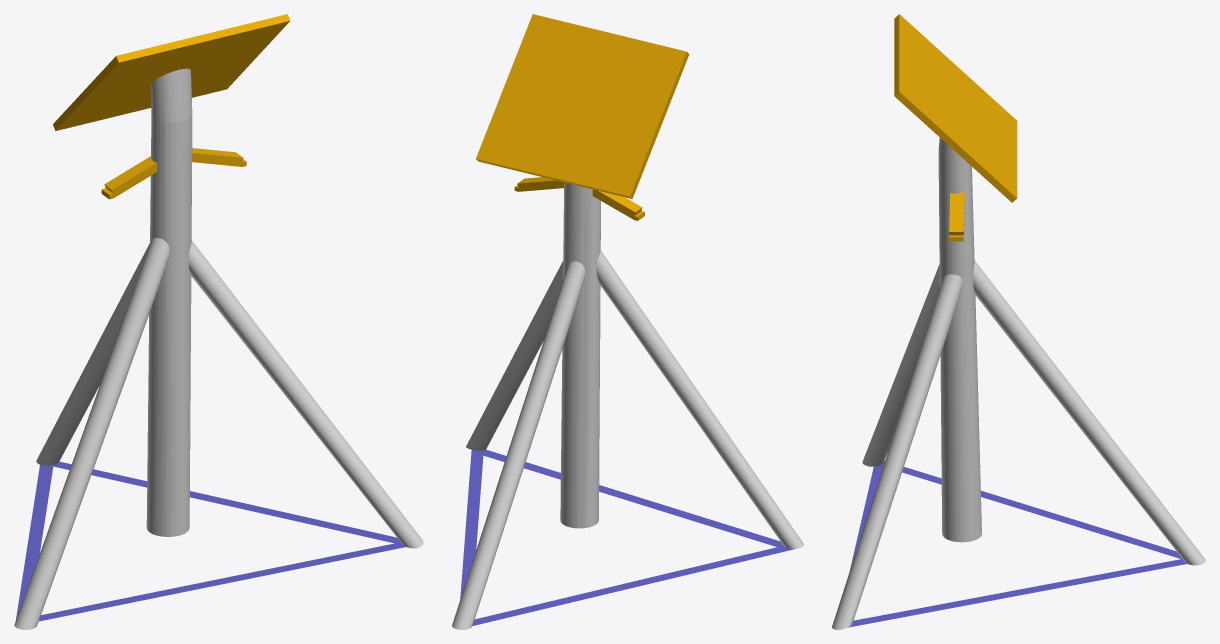
Rendered from boatStand.dae.
The picture shows the model from 3 angles, left to right: view 1: azimuth 30°, elevation 25°; view 2: azimuth 150°, elevation 25°; view 3: azimuth 270°, elevation 25°; orthographic projection. The views are drawn at different scales.
Visible parts, largest first — view 1: Mesh2_Group1_Model, Mesh5_Group1_Model, Mesh3_Group1_Model, Mesh6_Group1_Model, Mesh4_Group1_Model, Mesh1_Group2_Group1_Model; view 2: Mesh2_Group1_Model, Mesh4_Group1_Model, Mesh5_Group1_Model, Mesh6_Group1_Model, Mesh3_Group1_Model, Mesh1_Group2_Group1_Model; view 3: Mesh2_Group1_Model, Mesh3_Group1_Model, Mesh4_Group1_Model, Mesh6_Group1_Model, Mesh5_Group1_Model, Mesh1_Group2_Group1_Model.
Part boxes in pixels (x1=…): Mesh2_Group1_Model: x1=53, y1=14, x2=290, y2=536; Mesh5_Group1_Model: x1=14, y1=237, x2=169, y2=629; Mesh3_Group1_Model: x1=188, y1=240, x2=423, y2=548; Mesh6_Group1_Model: x1=15, y1=461, x2=405, y2=621; Mesh4_Group1_Model: x1=36, y1=243, x2=149, y2=465; Mesh1_Group2_Group1_Model: x1=101, y1=148, x2=246, y2=199; Mesh2_Group1_Model: x1=476, y1=14, x2=689, y2=528; Mesh4_Group1_Model: x1=452, y1=261, x2=585, y2=629; Mesh5_Group1_Model: x1=596, y1=250, x2=803, y2=548; Mesh6_Group1_Model: x1=460, y1=449, x2=794, y2=625; Mesh3_Group1_Model: x1=466, y1=261, x2=563, y2=450; Mesh1_Group2_Group1_Model: x1=514, y1=177, x2=644, y2=220; Mesh2_Group1_Model: x1=894, y1=14, x2=1017, y2=542; Mesh3_Group1_Model: x1=832, y1=274, x2=962, y2=629; Mesh4_Group1_Model: x1=973, y1=260, x2=1205, y2=565; Mesh6_Group1_Model: x1=848, y1=460, x2=1187, y2=627; Mesh5_Group1_Model: x1=862, y1=264, x2=939, y2=466; Mesh1_Group2_Group1_Model: x1=949, y1=192, x2=964, y2=241.
Size of the model in its own units: 1.18 by 1.06 by 1.58.
